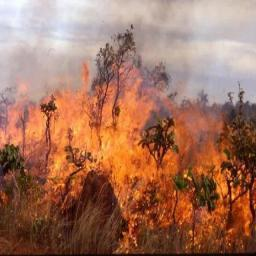Low smoke: (0, 0, 255, 120)
Medium fire: (5, 67, 256, 256)
